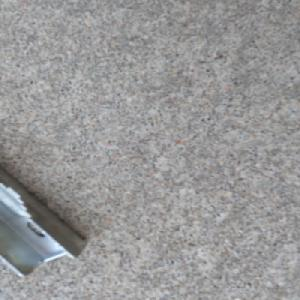ClampPart: (0, 169, 89, 277)
